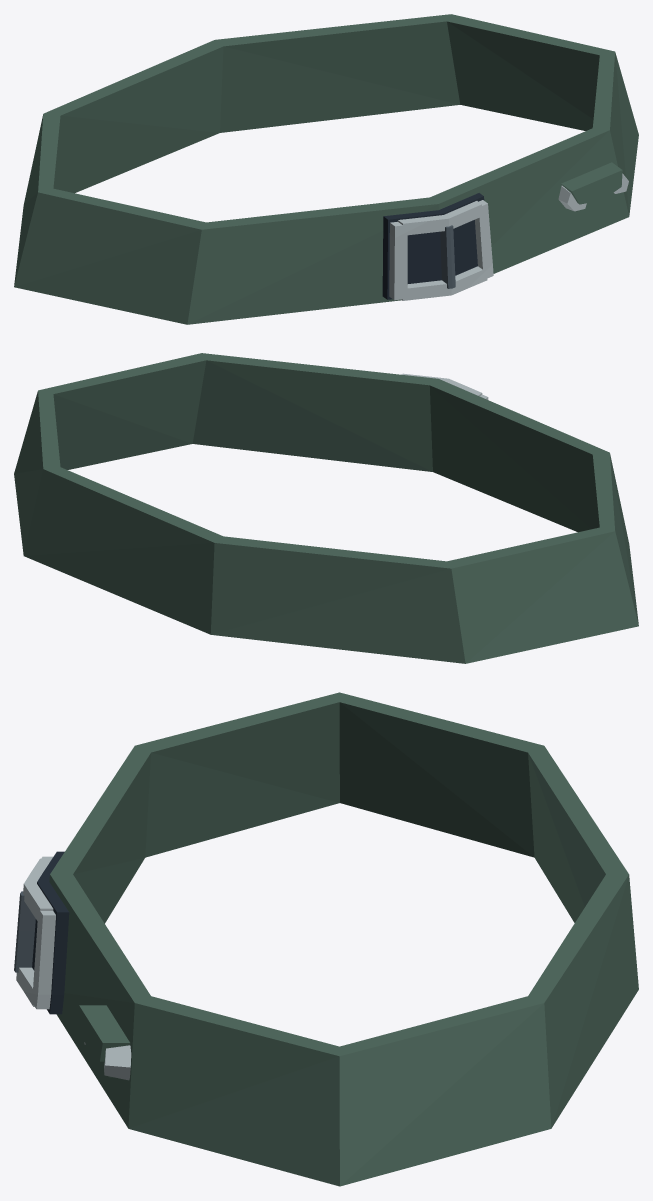
Rendered from studded_waist-female-scaledHide.glb.
3 views of the same model, one above another, from view 1: azimuth 30°, elevation 25°; view 2: azimuth 150°, elevation 25°; view 3: azimuth 270°, elevation 25° (orthographic). The views are drawn at different scales.
Parts seen in each view (by area): view 1: studded waist band, Buckle recessed backplate, Lapped hide reinforcement studded waist band 0, Buckle side rail -0.145, Buckle cross rail 4.506, Buckle cross rail 4.294, Buckle side rail 0.145, Buckle pin; view 2: studded waist band; view 3: studded waist band, Buckle recessed backplate, Lapped hide reinforcement studded waist band 0, Buckle side rail 0.145, Buckle pin, Buckle cross rail 4.506, Set rivet studded waist band 1.
Part boxes in pixels (<box>): studded waist band: <box>14,14,638,324</box>; Buckle recessed backplate: <box>382,193,484,299</box>; Lapped hide reinforcement studded waist band 0: <box>561,162,622,204</box>; Buckle side rail -0.145: <box>389,221,407,300</box>; Buckle cross rail 4.506: <box>398,201,482,235</box>; Buckle cross rail 4.294: <box>401,266,487,300</box>; Buckle side rail 0.145: <box>475,200,493,279</box>; Buckle pin: <box>440,225,455,288</box>; studded waist band: <box>14,353,638,663</box>; studded waist band: <box>49,692,638,1186</box>; Buckle recessed backplate: <box>32,851,69,1014</box>; Lapped hide reinforcement studded waist band 0: <box>79,1005,130,1061</box>; Buckle side rail 0.145: <box>32,908,55,1009</box>; Buckle pin: <box>14,891,35,972</box>; Buckle cross rail 4.506: <box>23,858,53,920</box>; Set rivet studded waist band 1: <box>104,1045,131,1080</box>.
Size of the model in its own units: 2.12 by 0.2895 by 1.42.
